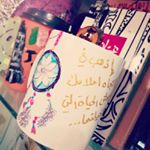cups: (2, 5, 73, 96)
